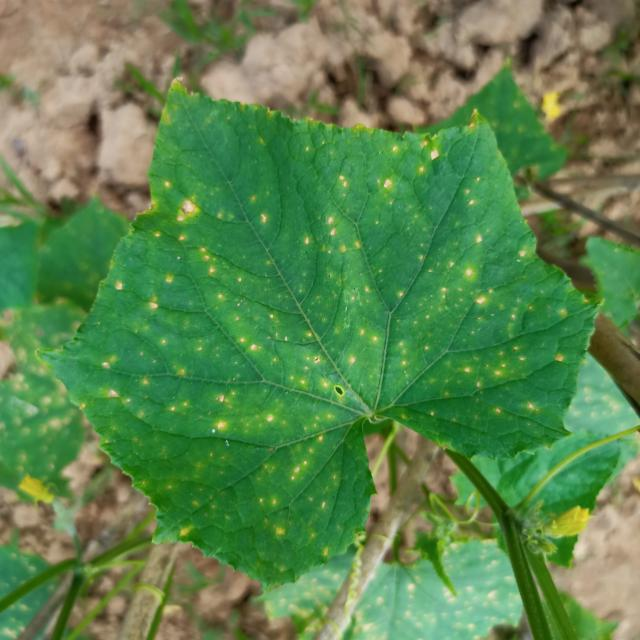disease_cucumber: (107, 108, 552, 548)
